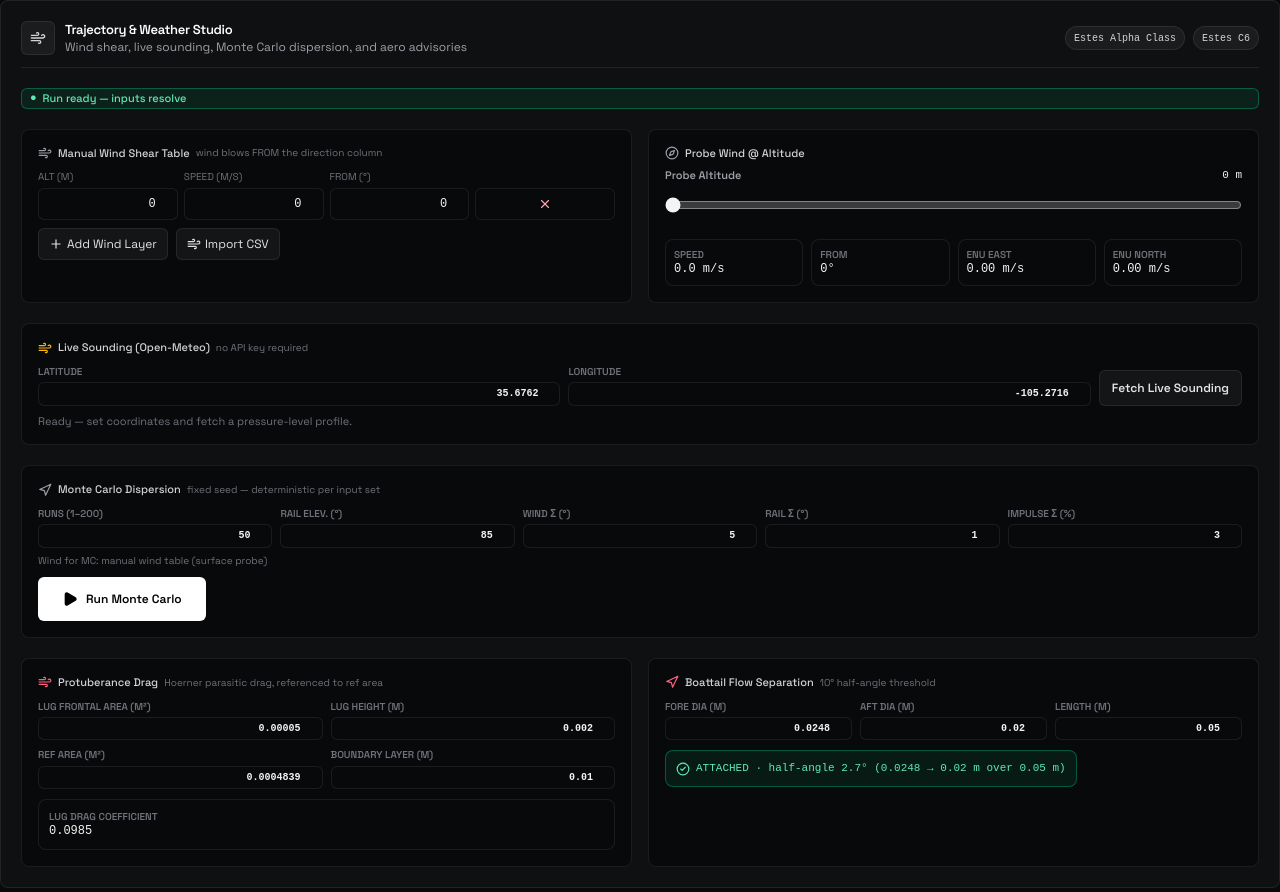
Test: TrajectoryStudio › runs a zero-sigma Monte Carlo with nRuns=5 and shows a pad-consistent mean landing
The image size is (1280, 892).
Replace the text in the number field named "Monte Carlo run count" with "5" at (155, 536), box [38,524,272,548]
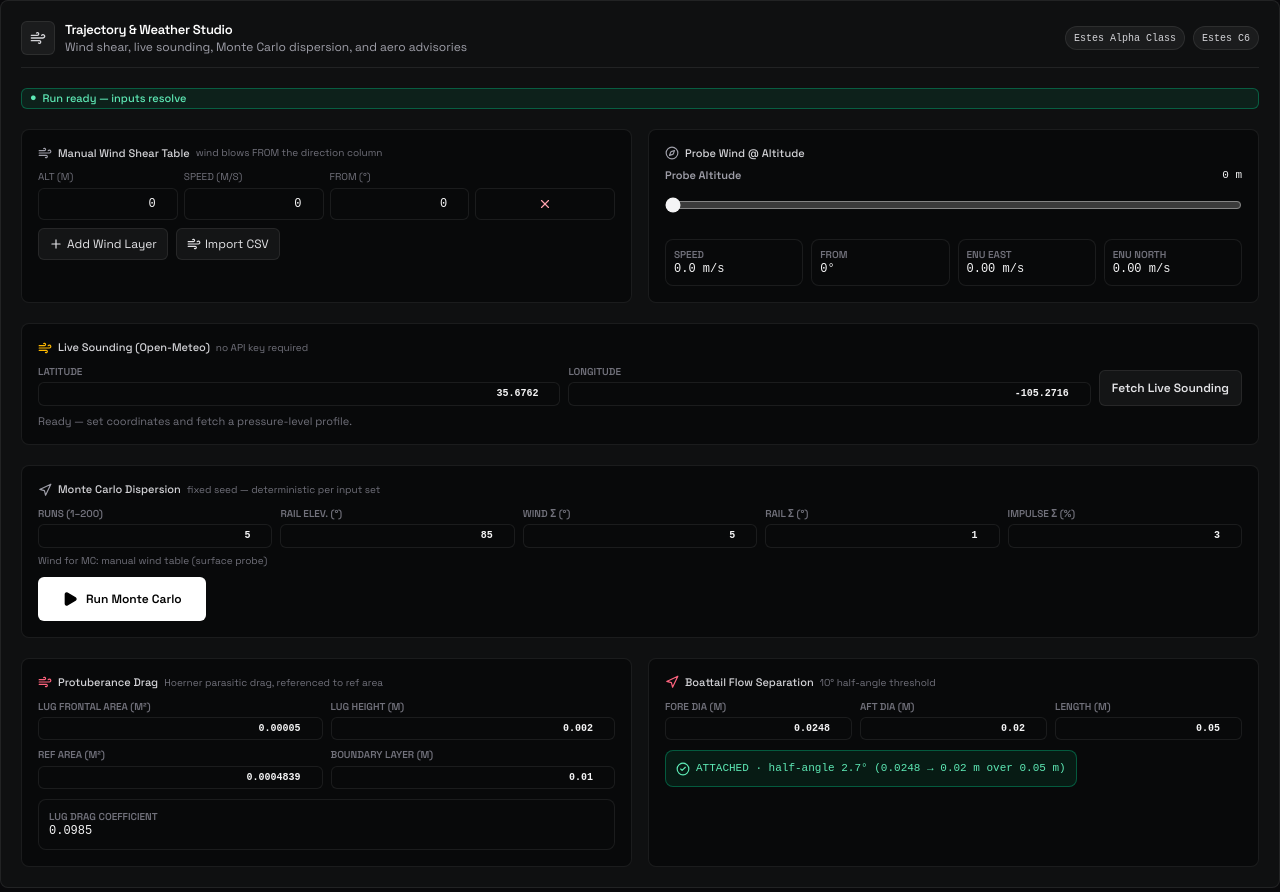
Replace the text in the number field named "Wind direction sigma (deg)" with "0" at (640, 536), box [523,524,757,548]
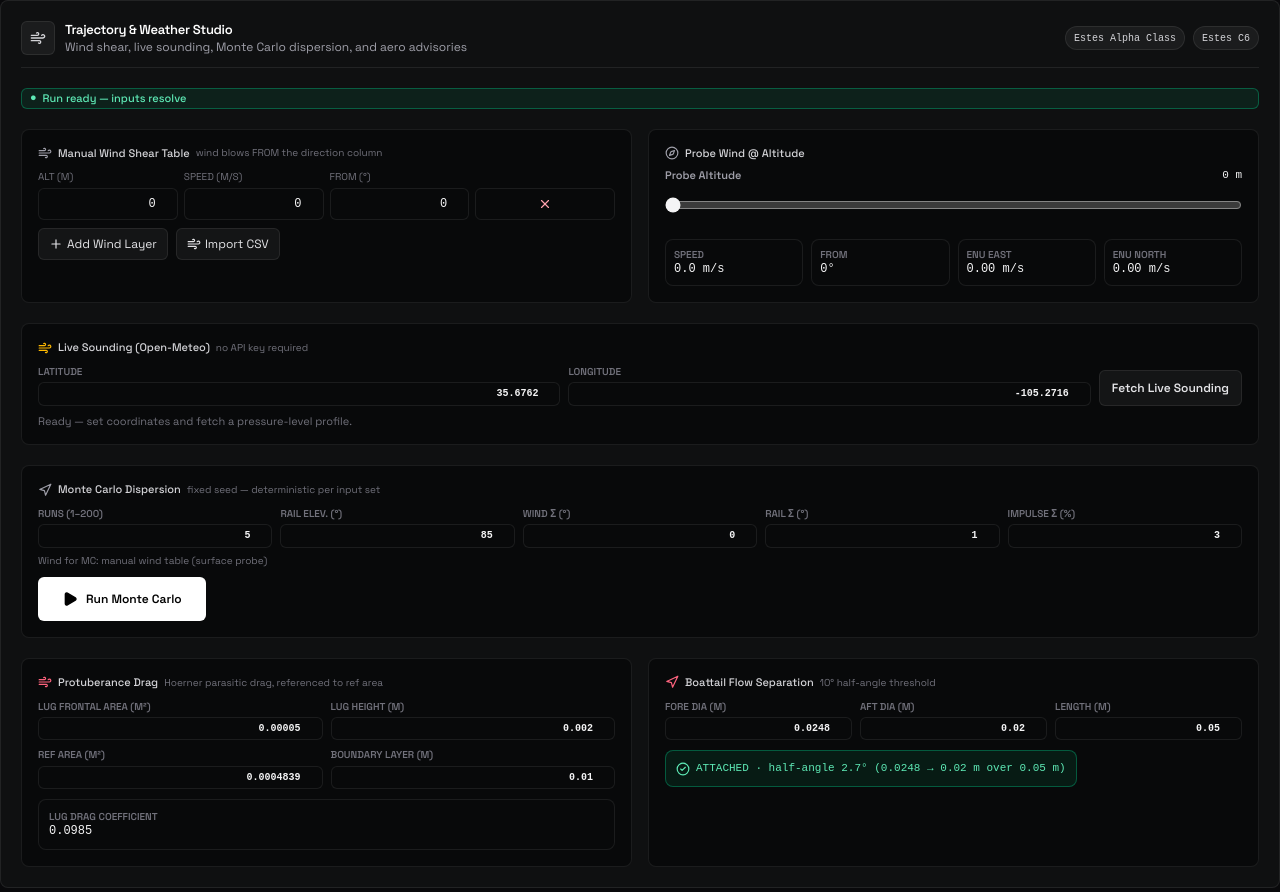
Replace the text in the number field named "Rail angle sigma (deg)" with "0" at (882, 536), box [765,524,1000,548]
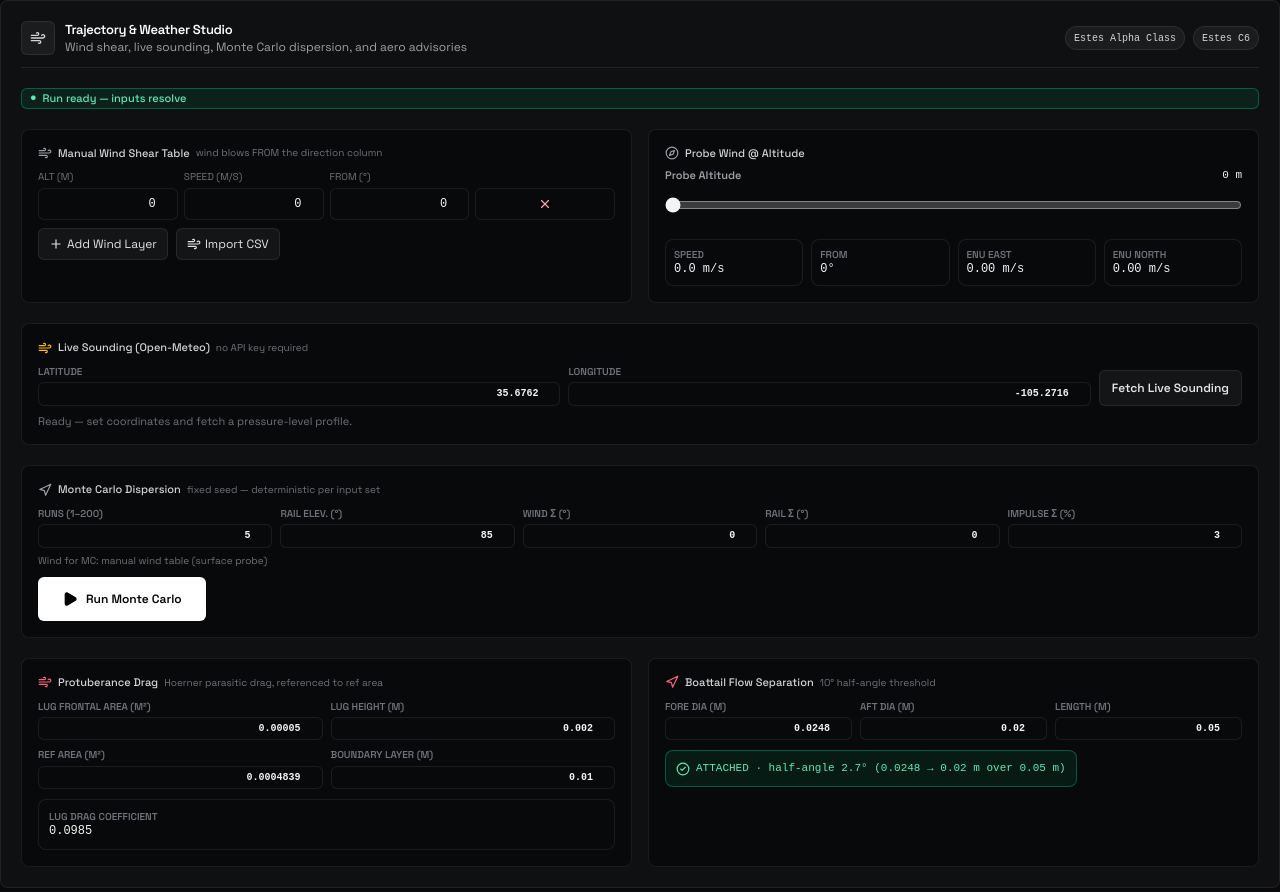
Replace the text in the number field named "Impulse sigma (%)" with "0" at (1125, 536), box [1008,524,1242,548]
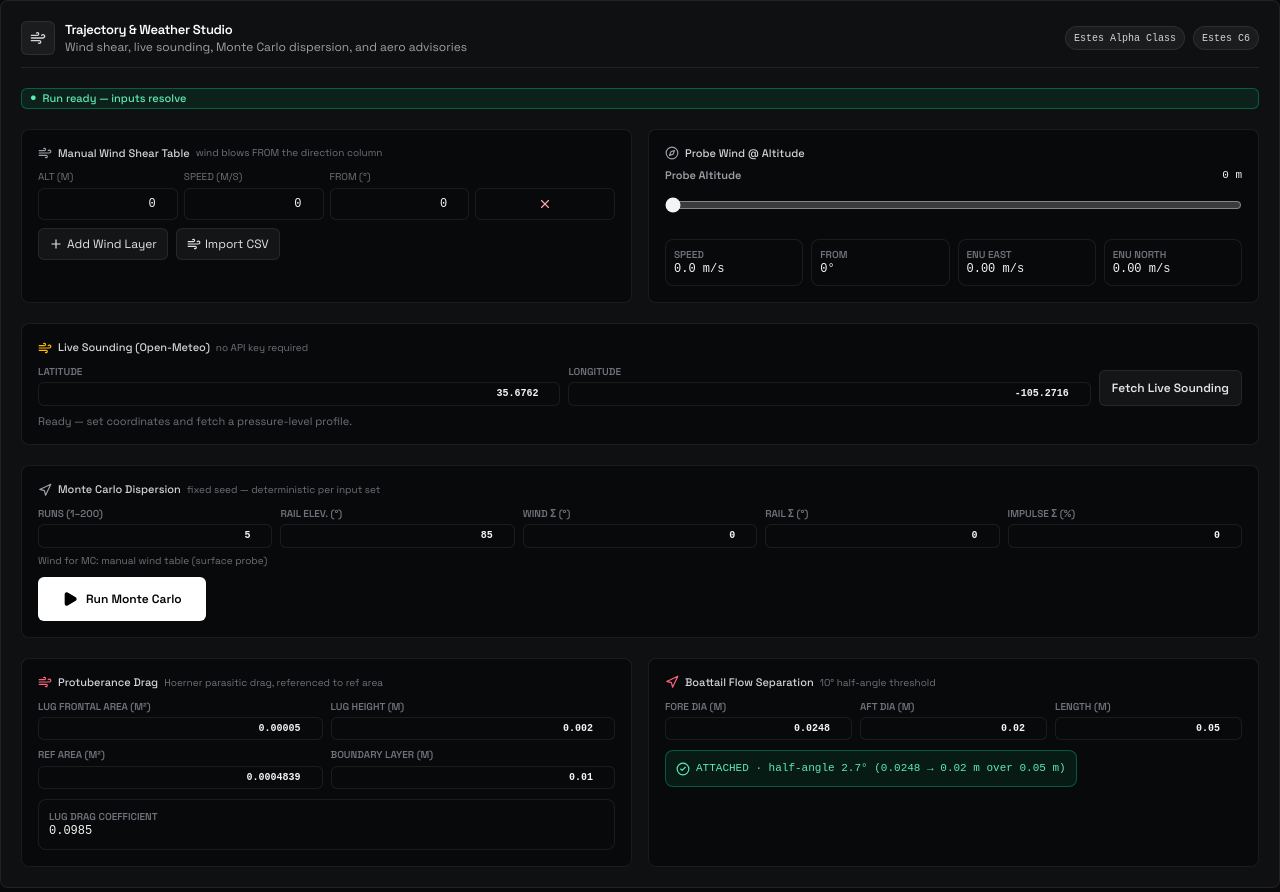
Click the button "Run Monte Carlo" at (122, 599), box [38,577,206,621]
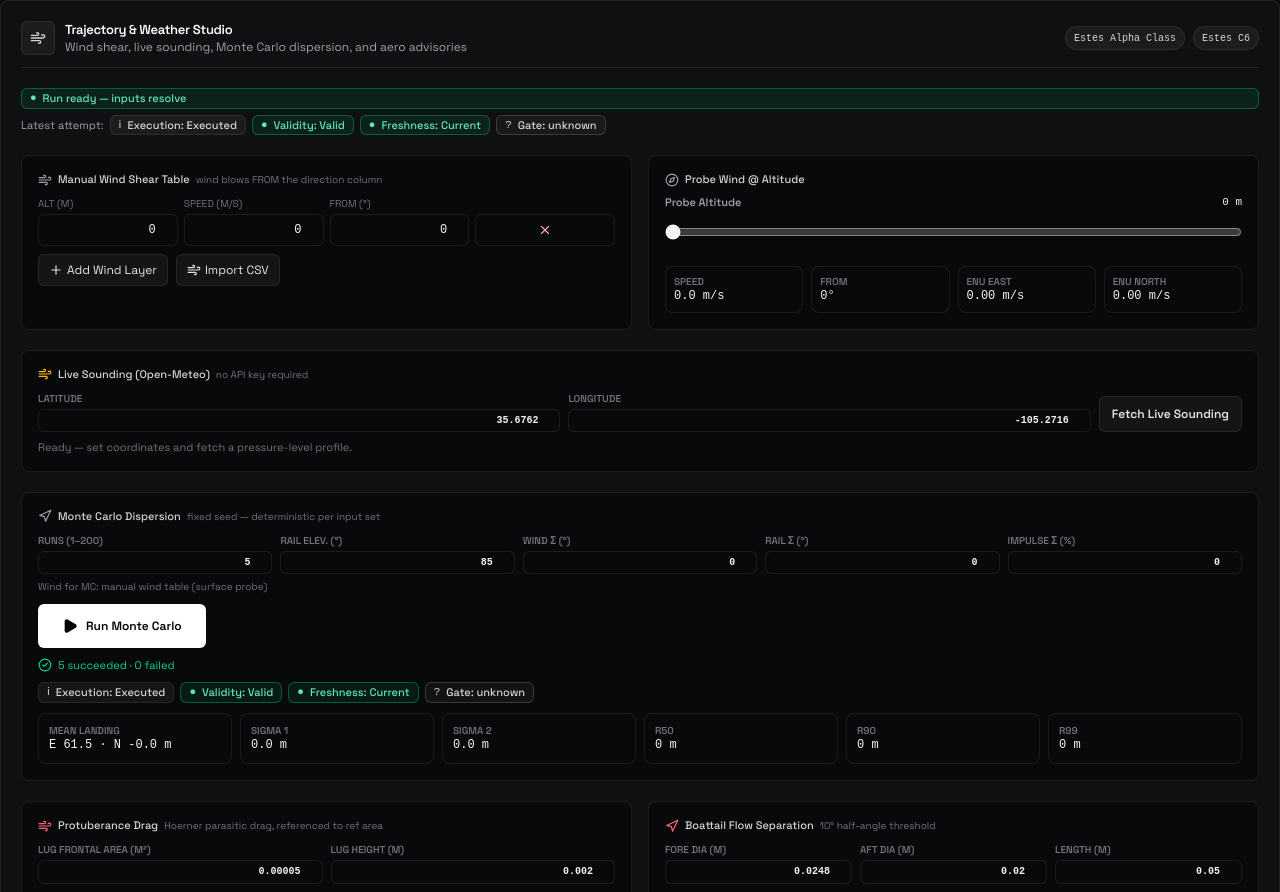
Now the text "5 succeeded · 0 failed" is shown, box [58,658,174,672]
Now the text named "Mean landing (m)" reads "E 61.5 · N -0.0 m", box [49,738,172,752]
Now the text named "Sigma 1 (m)" reads "0.0 m", box [251,738,287,752]
